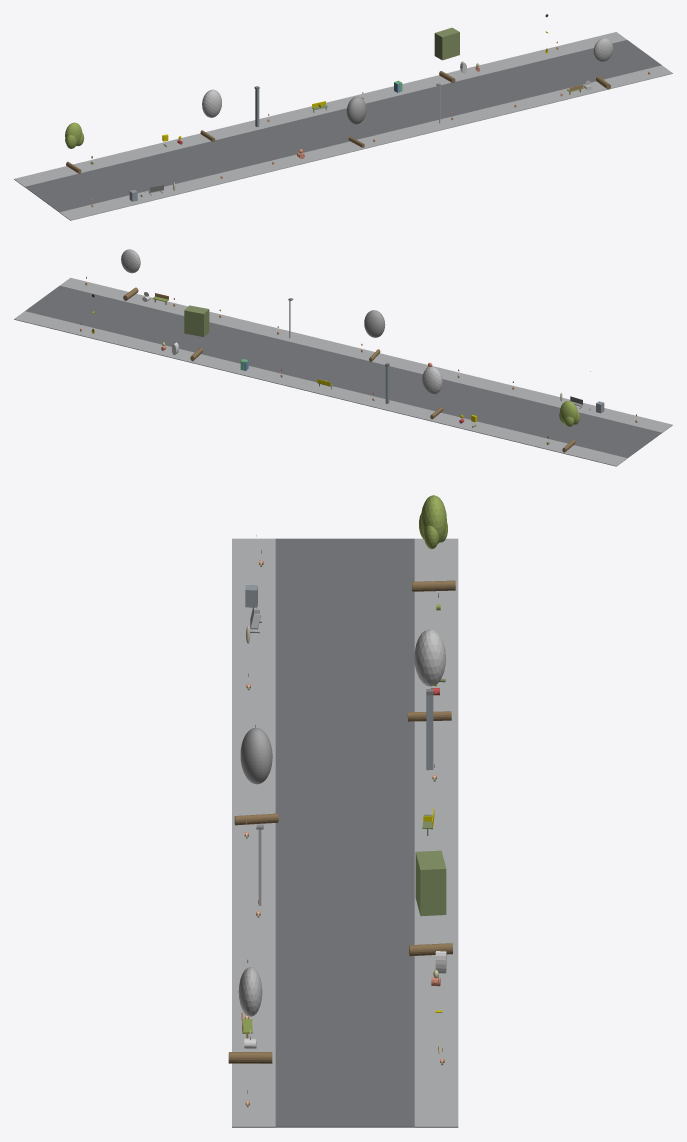
3 renders of one model, top to bottom at view 1: azimuth 30°, elevation 25°; view 2: azimuth 150°, elevation 25°; view 3: azimuth 270°, elevation 25°, orthographic. The views are drawn at different scales.
Parts seen in each view (by area): view 1: road_slab, sidewalk_left, sidewalk_right, inst_0015, inst_0013, inst_0014, inst_0012, inst_0016; view 2: road_slab, sidewalk_right, sidewalk_left, inst_0015, inst_0013, inst_0014, inst_0012, inst_0016; view 3: road_slab, sidewalk_left, sidewalk_right, inst_0015, inst_0014, inst_0013, inst_0012, inst_0016.
Boxes of the visible parts, x1,y1,x2,y2 form: road_slab: [25, 40, 661, 212]; sidewalk_left: [59, 65, 672, 220]; sidewalk_right: [14, 32, 626, 187]; inst_0015: [434, 27, 459, 83]; inst_0013: [200, 89, 221, 142]; inst_0014: [346, 96, 366, 147]; inst_0012: [65, 122, 84, 173]; inst_0016: [593, 38, 613, 89]; road_slab: [25, 285, 661, 458]; sidewalk_right: [14, 311, 627, 466]; sidewalk_left: [60, 277, 672, 432]; inst_0015: [184, 305, 209, 361]; inst_0013: [422, 366, 443, 419]; inst_0014: [364, 310, 385, 361]; inst_0012: [559, 401, 579, 452]; inst_0016: [121, 249, 140, 300]; road_slab: [275, 538, 414, 1127]; sidewalk_left: [232, 538, 275, 1127]; sidewalk_right: [414, 538, 458, 1127]; inst_0015: [409, 850, 452, 956]; inst_0014: [234, 727, 278, 825]; inst_0013: [407, 629, 451, 721]; inst_0012: [412, 495, 455, 591]; inst_0016: [228, 967, 272, 1063].
Bounding box in the file's own units: 80 × 6.08 × 13.19.
